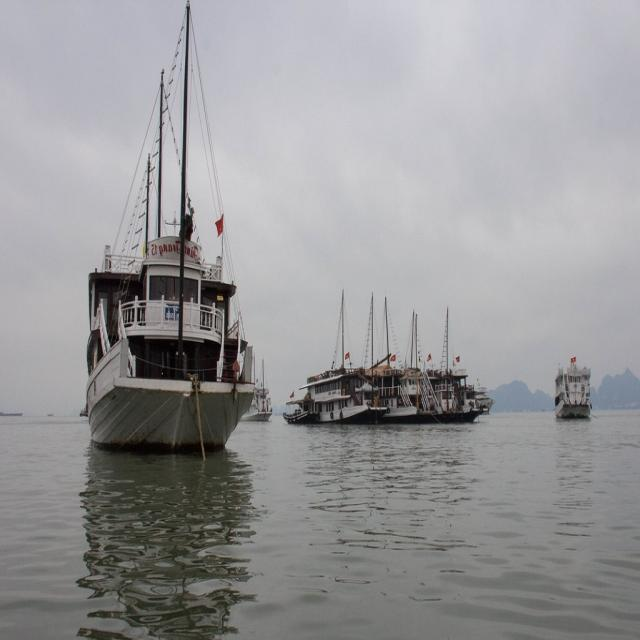boat: (74, 230, 250, 456), (297, 364, 384, 427), (551, 358, 599, 436), (277, 405, 315, 431)
